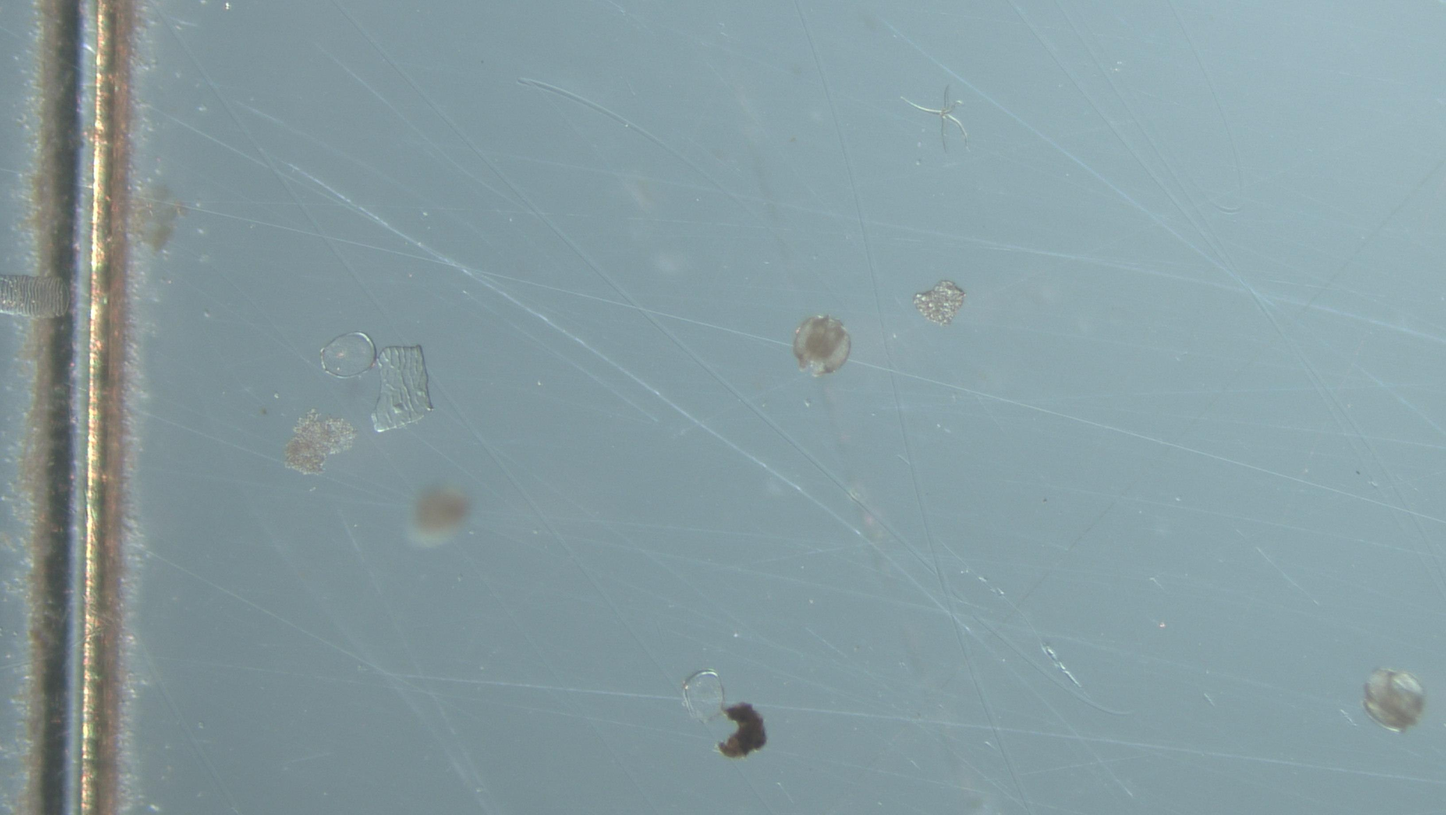dead: (319, 332, 377, 378)
live: (1364, 669, 1426, 732), (792, 316, 851, 377), (682, 670, 725, 724)
